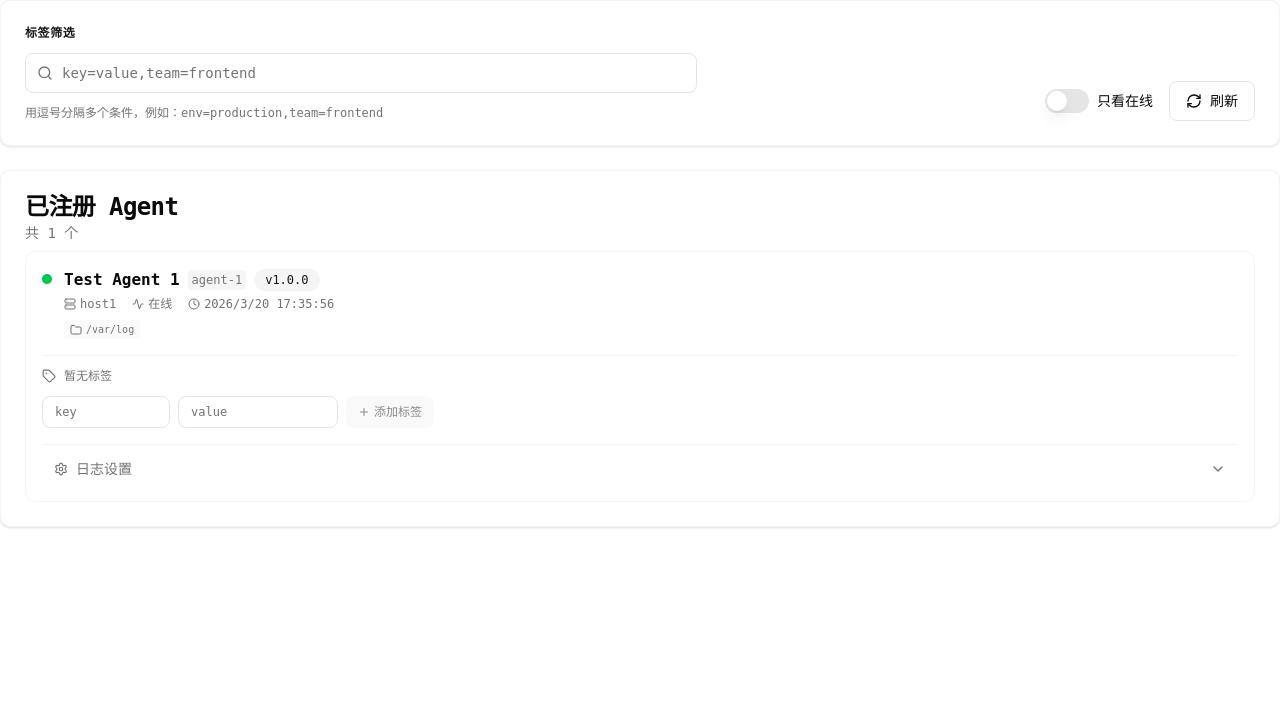
Test case: 日志设置 - 加载配置失败显示错误
Click the button "日志设置": point(104, 469) [42,453,1238,485]
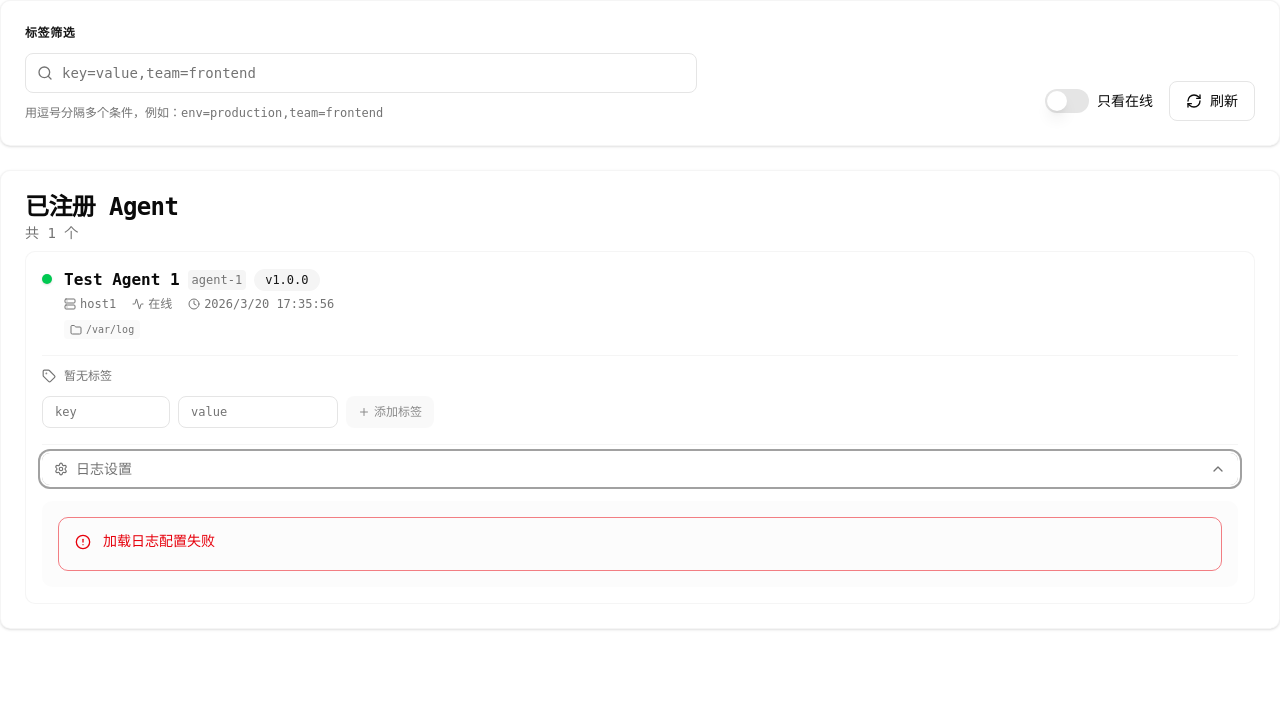
Result: the text "加载日志配置失败" is shown at [103,533,215,549]
